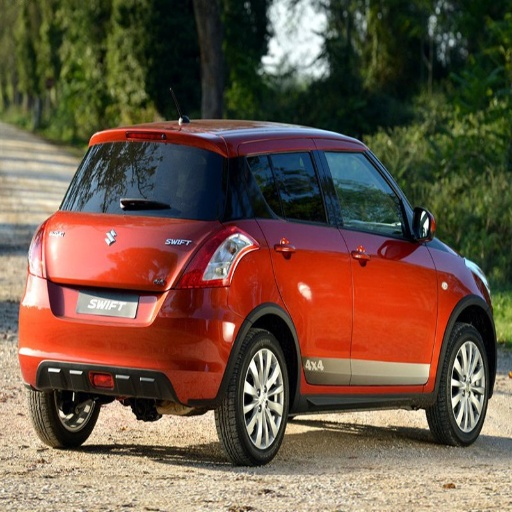back_bumper: (18, 277, 244, 409)
back_right_door: (248, 138, 350, 386)
tailgate: (46, 226, 166, 313)
trunk: (35, 212, 217, 325)
